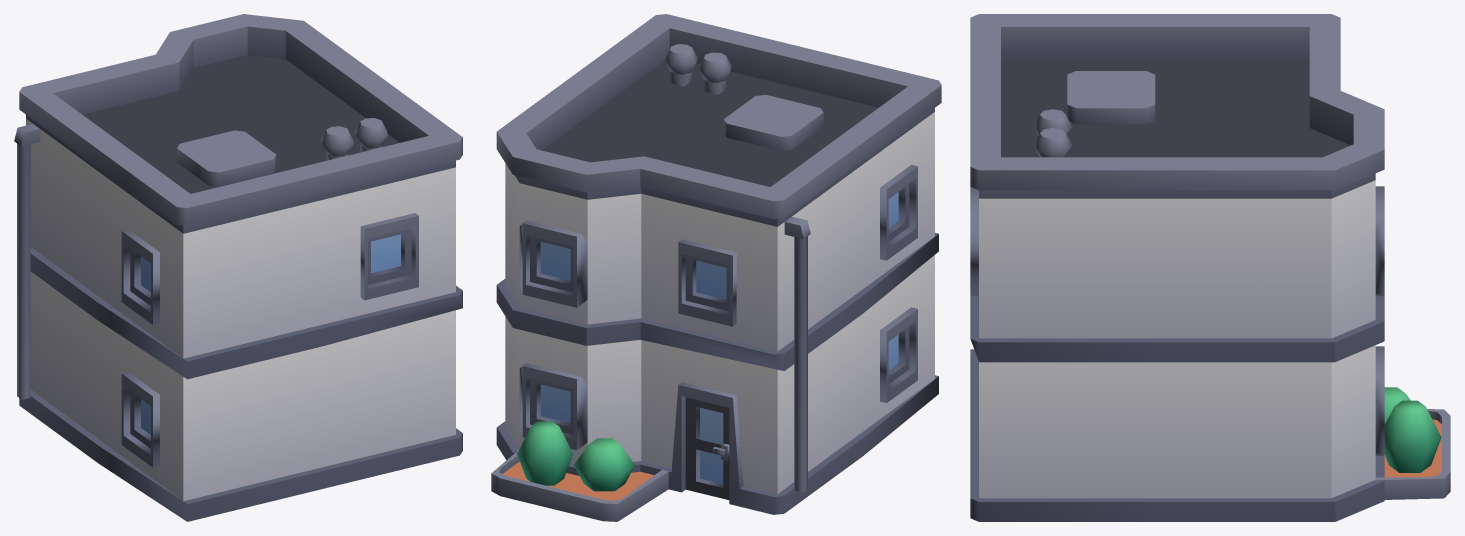
File: townhouse-c.glb
3 views of the same model, side by side, from view 1: azimuth 30°, elevation 25°; view 2: azimuth 150°, elevation 25°; view 3: azimuth 270°, elevation 25° (orthographic). The views are drawn at different scales.
Visible parts, largest first — view 1: building-c; view 2: building-c; view 3: building-c.
Boxes of the visible parts, bbox=[...] form: building-c: bbox=[14, 14, 462, 521]; building-c: bbox=[491, 14, 941, 521]; building-c: bbox=[970, 14, 1450, 521].
Bounding box in the file's own units: 0.876 × 0.8931 × 1.09.
Materials: 1 (1 with a texture image).
